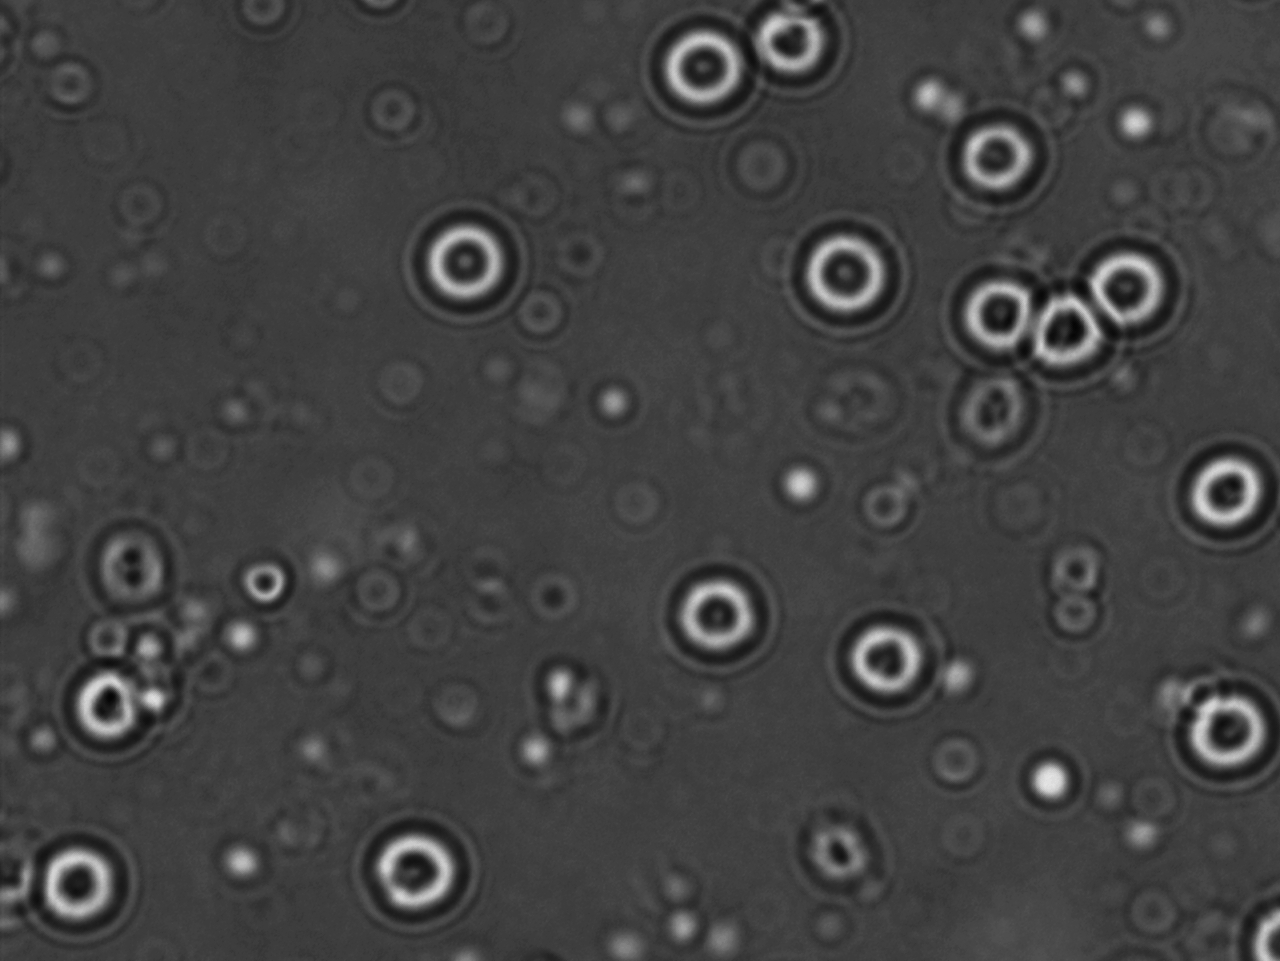depth:8: (400, 205, 537, 335), (785, 211, 913, 341), (821, 598, 951, 719), (943, 100, 1063, 227), (356, 808, 490, 922), (637, 11, 756, 135), (58, 652, 186, 766), (21, 822, 145, 939), (661, 560, 783, 673), (941, 251, 1059, 366), (1170, 671, 1280, 791), (1165, 437, 1280, 546), (1073, 231, 1186, 339), (1017, 270, 1121, 377)
